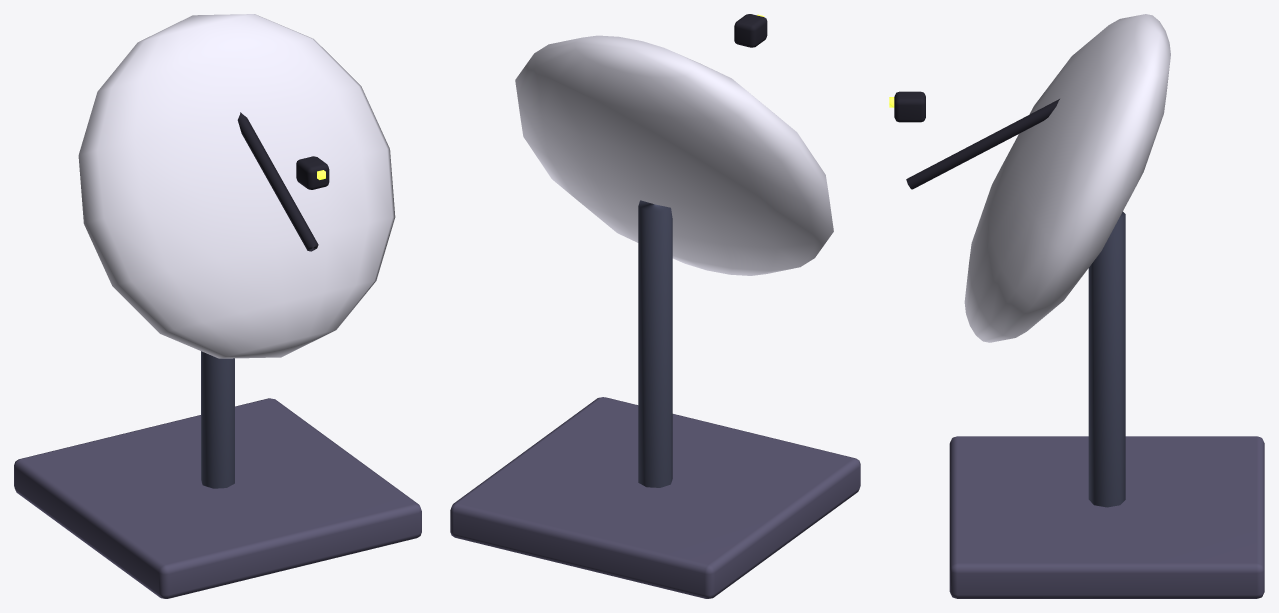
The model's file is neon_dish.glb.
The picture shows the model from 3 angles, left to right: view 1: azimuth 30°, elevation 25°; view 2: azimuth 150°, elevation 25°; view 3: azimuth 270°, elevation 25°; orthographic projection. The views are drawn at different scales.
Visible parts, largest first — view 1: Dish.001; view 2: Dish.001; view 3: Dish.001.
Part boxes in pixels (x1,y1,x2,y2): Dish.001: [14, 14, 421, 598]; Dish.001: [450, 14, 860, 598]; Dish.001: [889, 14, 1264, 598].
Size of the model in its own units: 1.4 by 2.11 by 1.43.
